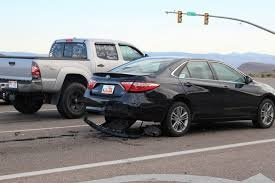Smashed: (85, 103, 164, 140)
